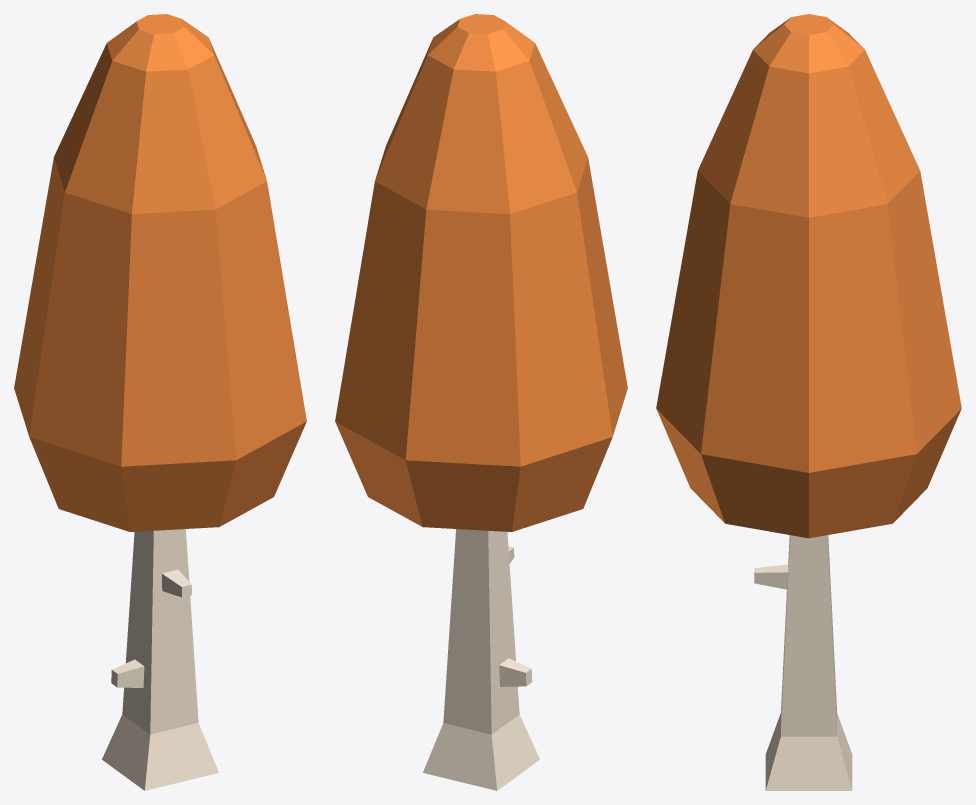
The model's file is tree_cone_fall.obj.
The picture shows the model from 3 angles, left to right: view 1: azimuth 30°, elevation 25°; view 2: azimuth 150°, elevation 25°; view 3: azimuth 270°, elevation 25°; orthographic projection.
Visible parts, largest first — view 1: tree_cone_fall; view 2: tree_cone_fall; view 3: tree_cone_fall.
Boxes of the visible parts, <box> form: tree_cone_fall: <box>14,14,306,790</box>; tree_cone_fall: <box>335,14,627,790</box>; tree_cone_fall: <box>656,14,961,790</box>.
Bounding box in the file's own units: 0.5297 × 1.43 × 0.5297.
